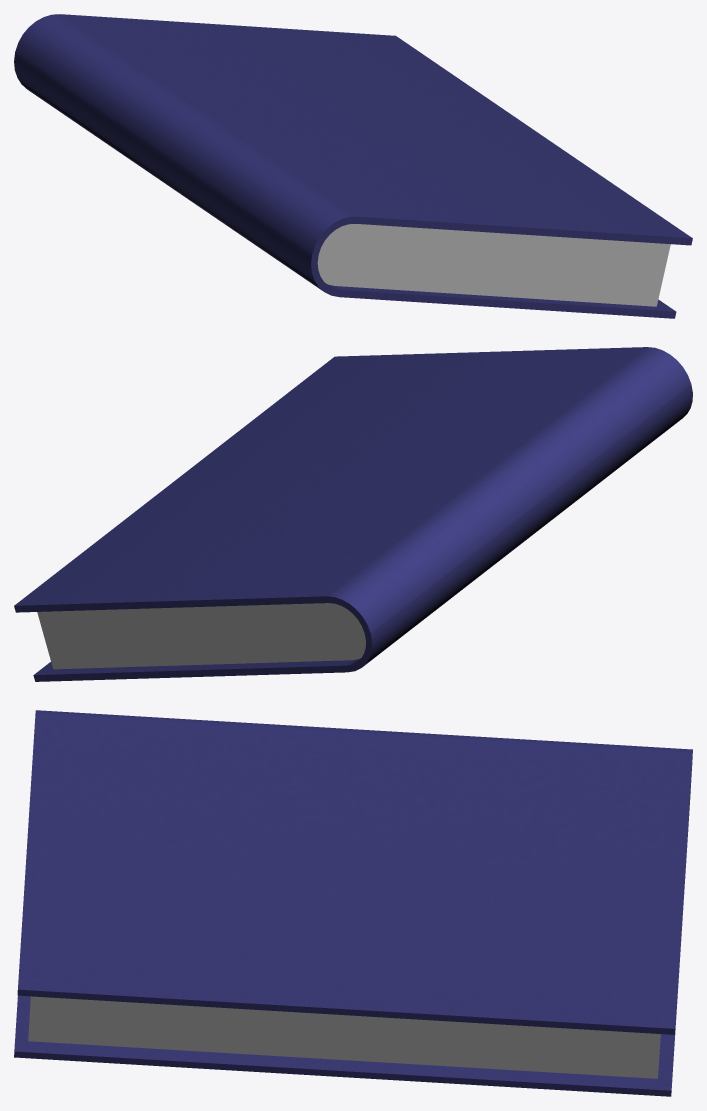
Rendered from book.obj.
3 renders of one model, top to bottom at view 1: azimuth 30°, elevation 25°; view 2: azimuth 150°, elevation 25°; view 3: azimuth 270°, elevation 25°, orthographic. The views are drawn at different scales.
Parts seen in each view (by area): view 1: tapa; view 2: tapa; view 3: tapa.
Boxes of the visible parts, x1=… form: tapa: x1=14, y1=14, x2=692, y2=318; tapa: x1=14, y1=347, x2=692, y2=681; tapa: x1=14, y1=710, x2=692, y2=1096.
Bounding box in the file's own units: 40.07 × 19.77 × 57.51.
1 material, 1 textured.
